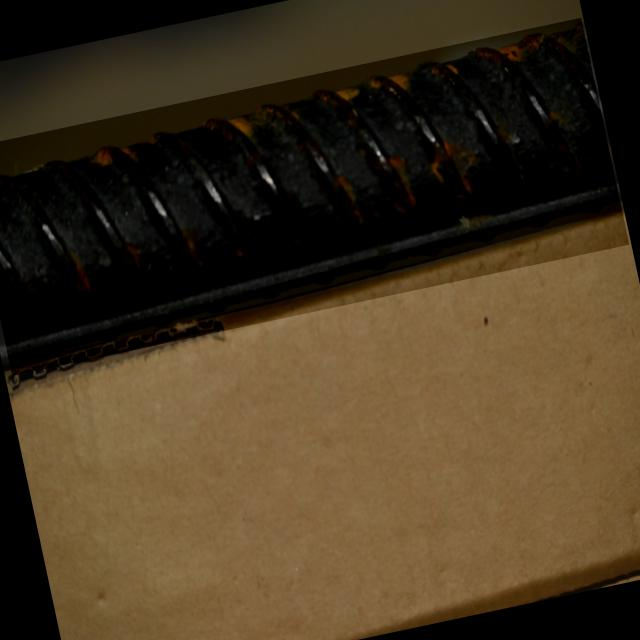ribbed bar: (0, 17, 629, 375)
